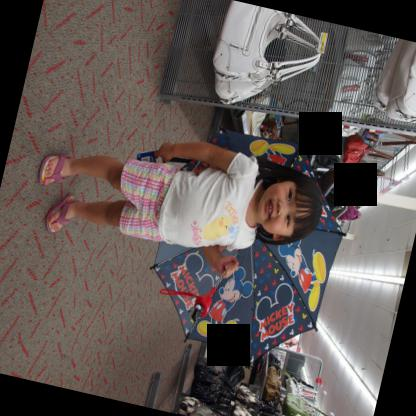handbag: (173, 36, 415, 415), (212, 1, 321, 81), (213, 53, 320, 105), (334, 133, 386, 188), (384, 40, 416, 123), (370, 38, 404, 111), (336, 183, 365, 223), (237, 385, 276, 410), (285, 376, 316, 397), (354, 161, 383, 182), (324, 185, 345, 213), (285, 393, 310, 416), (230, 400, 252, 416)
